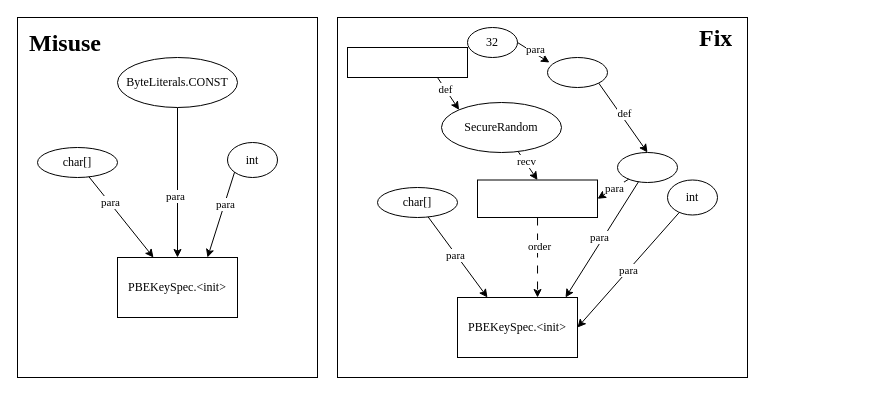
The diagram is 895 pixels wide and 395 high, and some of its shapes have lost their labels. Here are the shapes that lost their labels. From the top down, the box of each, then its label:
(346, 46, 468, 78): SecureRandom.<init>
(546, 56, 608, 88): {byte}
(616, 152, 678, 182): byte[]
(476, 179, 598, 218): Random.nextBytes()
